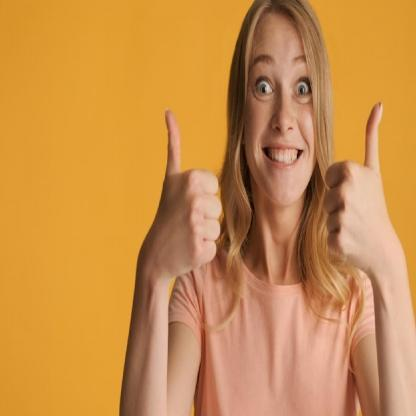thumb_up: (149, 104, 223, 274), (323, 96, 390, 270)
